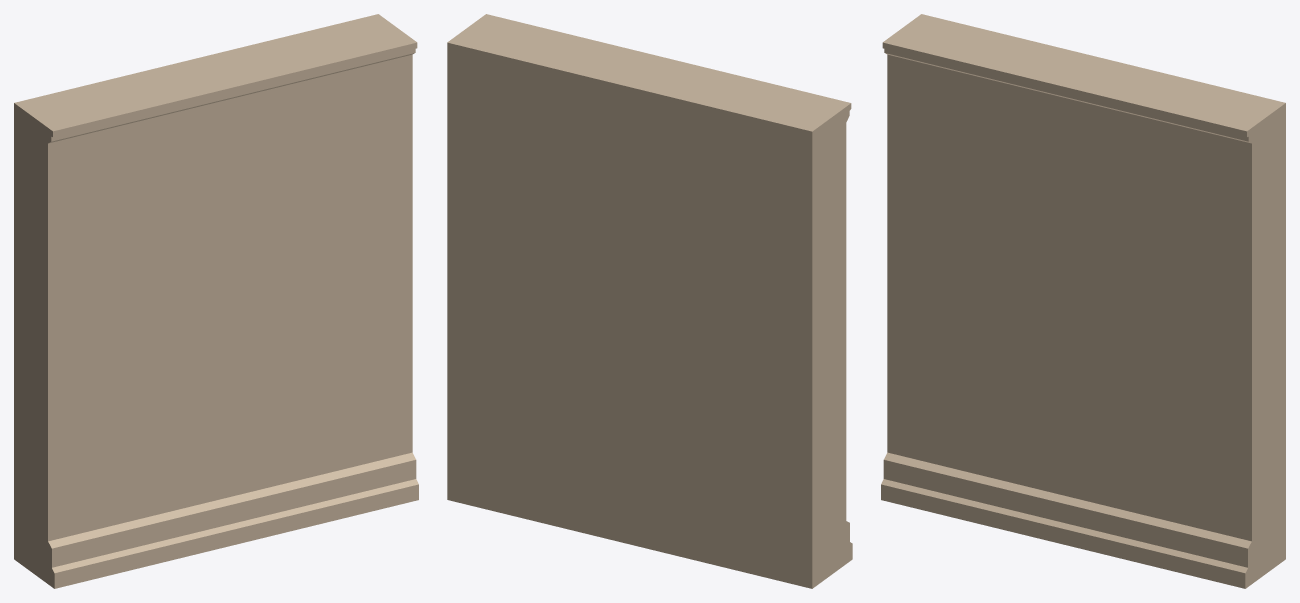
File: BC_Wall_E.fbx
3 views of the same model, side by side, from view 1: azimuth 30°, elevation 25°; view 2: azimuth 150°, elevation 25°; view 3: azimuth 330°, elevation 25° (orthographic).
Visible parts, largest first — view 1: BC_Wall_E; view 2: BC_Wall_E; view 3: BC_Wall_E.
Boxes of the visible parts, x1,y1,x2,y2 form: BC_Wall_E: (14,14,418,588); BC_Wall_E: (447,14,852,588); BC_Wall_E: (881,14,1285,588).
Size of the model in its own units: 1471 by 1761 by 283.
